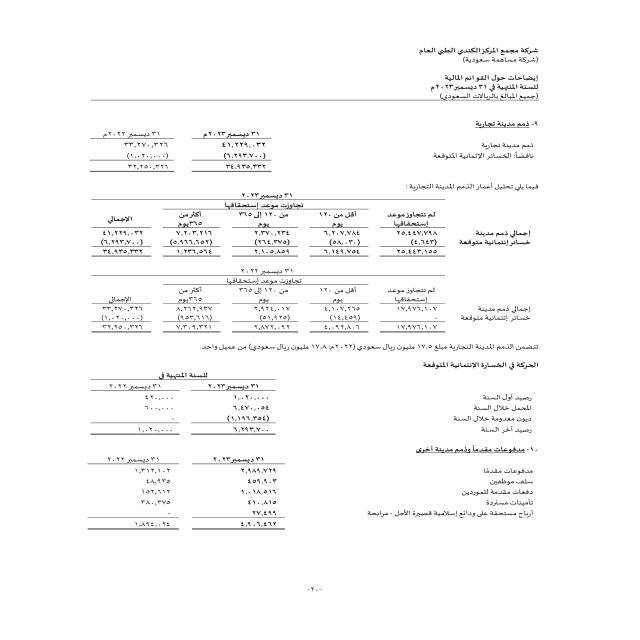notes: (438, 72, 540, 82)
table: (63, 361, 282, 542), (84, 179, 544, 258), (71, 264, 536, 340), (71, 122, 291, 174)
